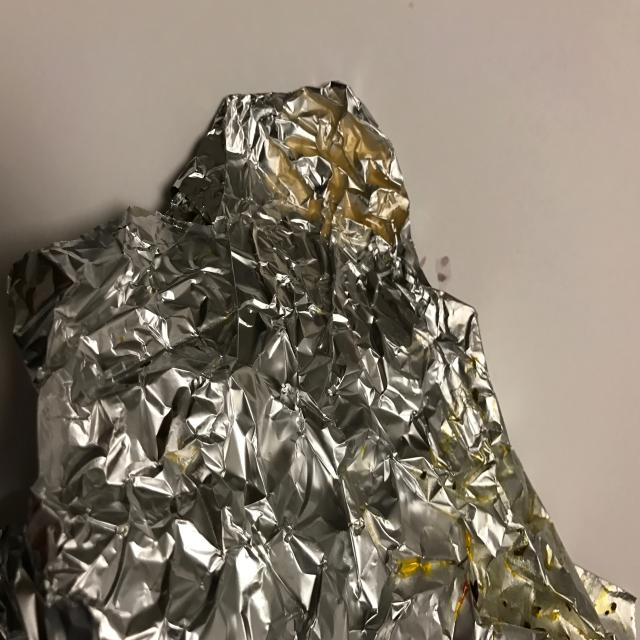metal: (0, 79, 638, 640)
